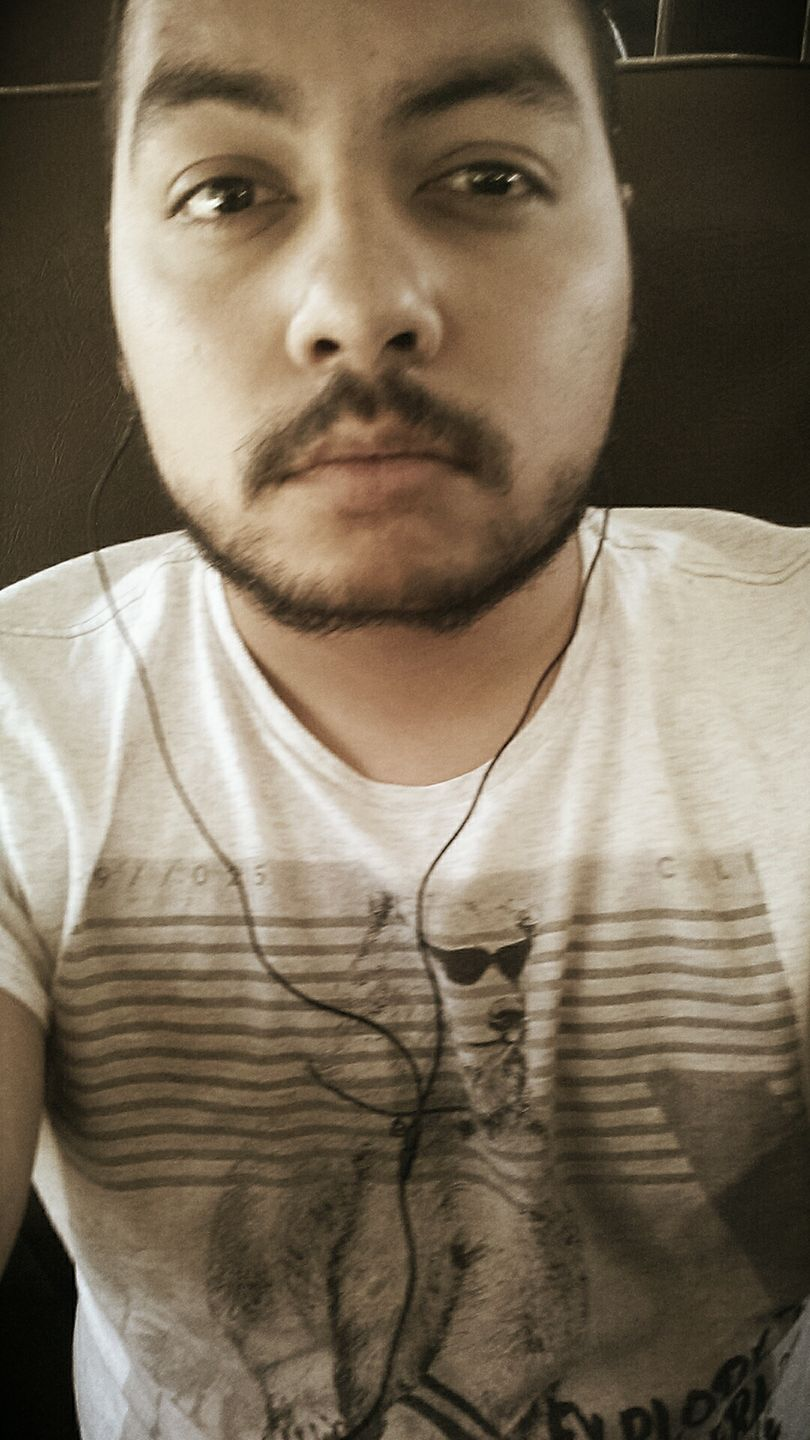Yoshi: (68, 6, 708, 734)
